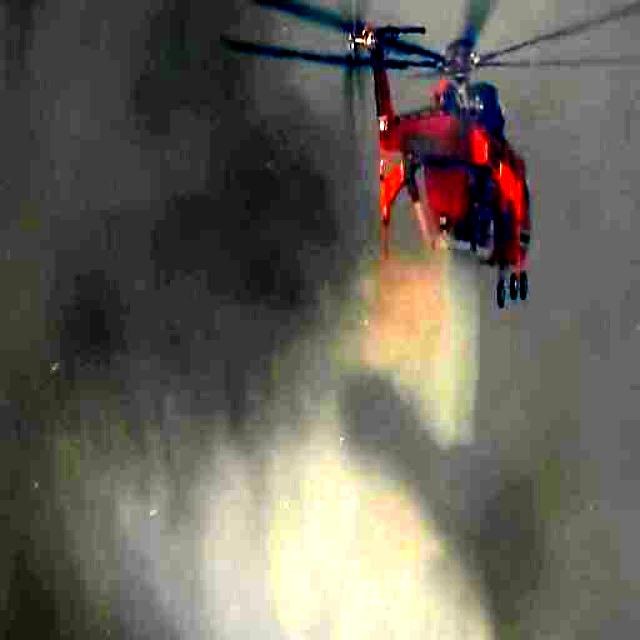drone: (232, 0, 640, 318)
